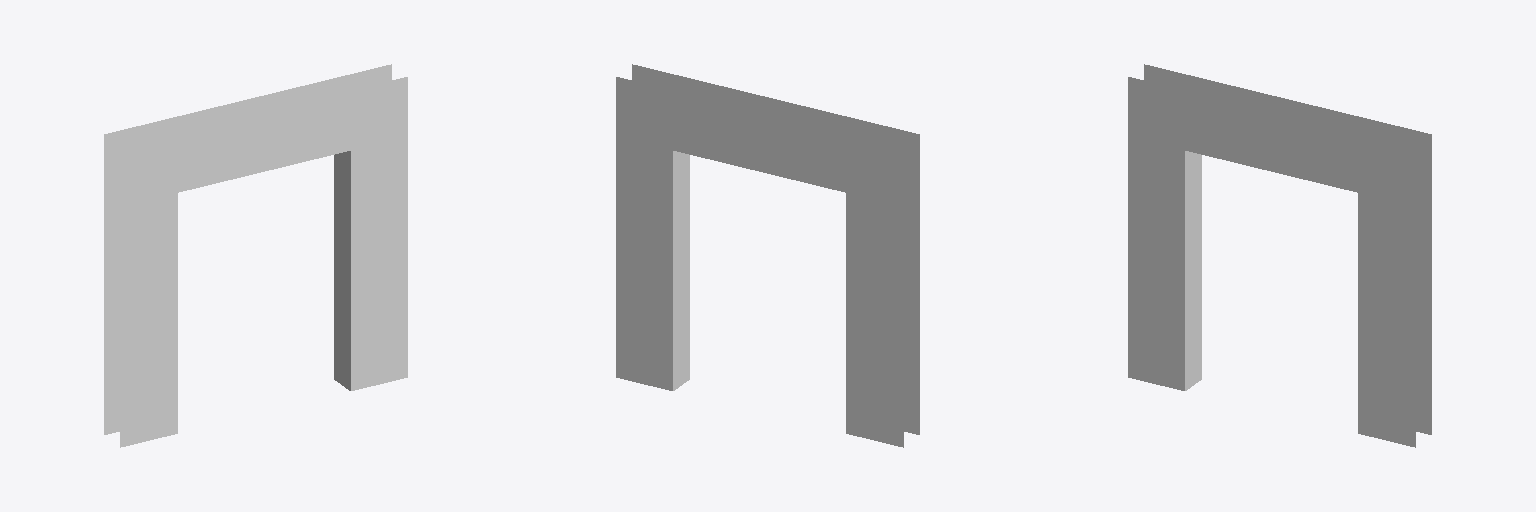
File: Door Connector.obj
3 views of the same model, side by side, from view 1: azimuth 30°, elevation 25°; view 2: azimuth 150°, elevation 25°; view 3: azimuth 330°, elevation 25° (orthographic).
Parts seen in each view (by area): view 1: Door Connector; view 2: Door Connector; view 3: Door Connector.
Boxes of the visible parts, box(x1,y1,x2,y2) form: Door Connector: box(104, 64, 407, 447); Door Connector: box(616, 64, 919, 447); Door Connector: box(1128, 64, 1431, 447).
Bounding box in the file's own units: 1 × 1 × 0.1.